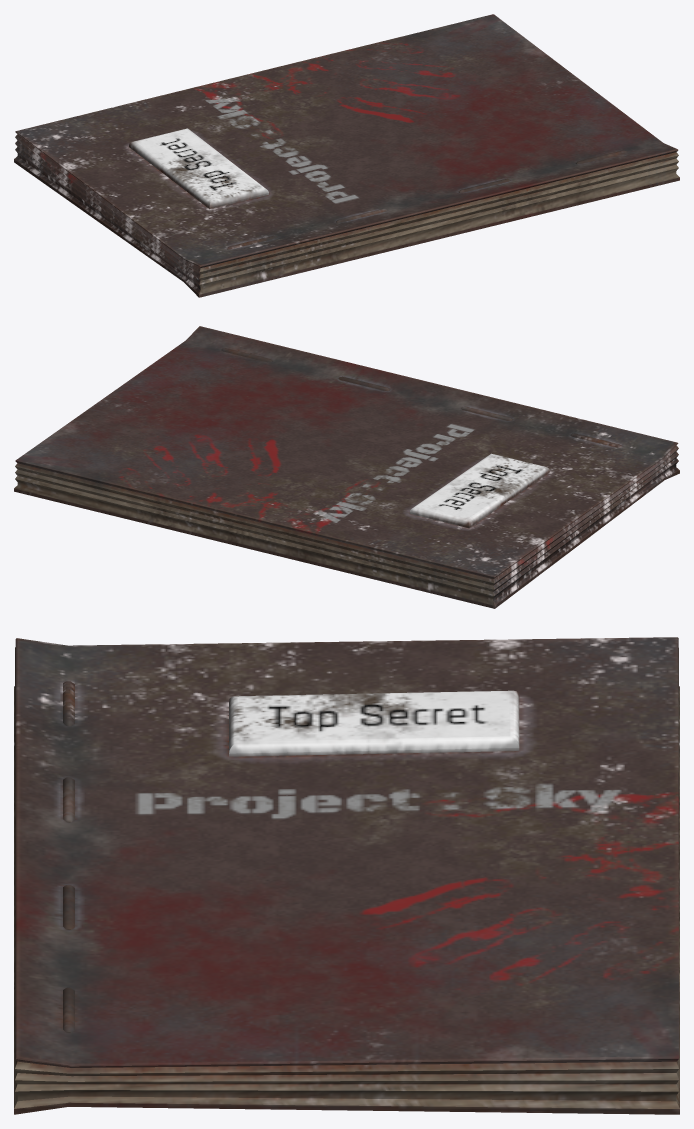
Rendered from code_book.fbx.
3 views of the same model, one above another, from view 1: azimuth 30°, elevation 25°; view 2: azimuth 150°, elevation 25°; view 3: azimuth 270°, elevation 25° (orthographic). The views are drawn at different scales.
Parts seen in each view (by area): view 1: Project_Book; view 2: Project_Book; view 3: Project_Book.
Boxes of the visible parts, x1,y1,x2,y2 form: Project_Book: (14, 14, 679, 297); Project_Book: (14, 326, 679, 608); Project_Book: (14, 637, 679, 1114).
Bounding box in the file's own units: 600 × 44.08 × 400.
1 material, 1 textured.
